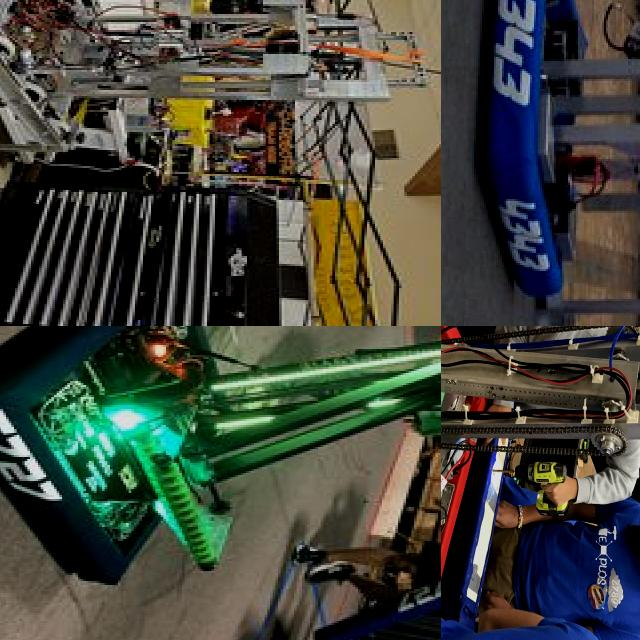FRC-Robots: (0, 0, 441, 326), (0, 326, 441, 640), (451, 0, 640, 326), (441, 343, 640, 450)
